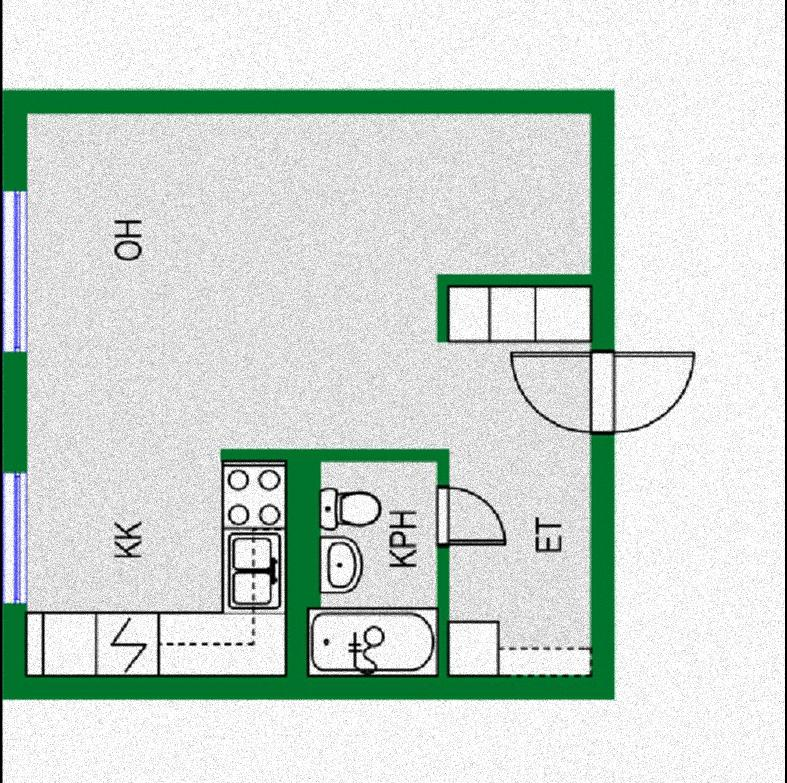door: (501, 339, 703, 436), (441, 489, 503, 543)
window: (3, 193, 27, 352), (3, 473, 27, 602)
zone: (27, 103, 592, 681)
